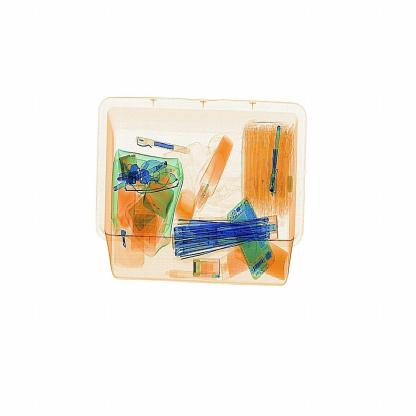pliers: (183, 210, 256, 242)
